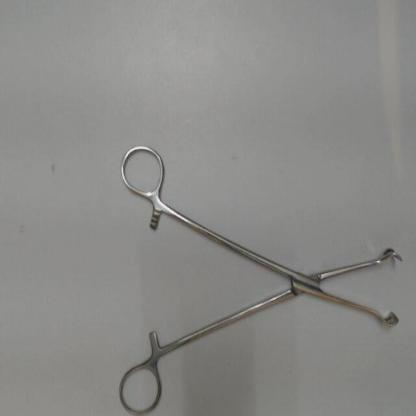8 Babcock Tissue Forceps: (113, 137, 410, 414)
